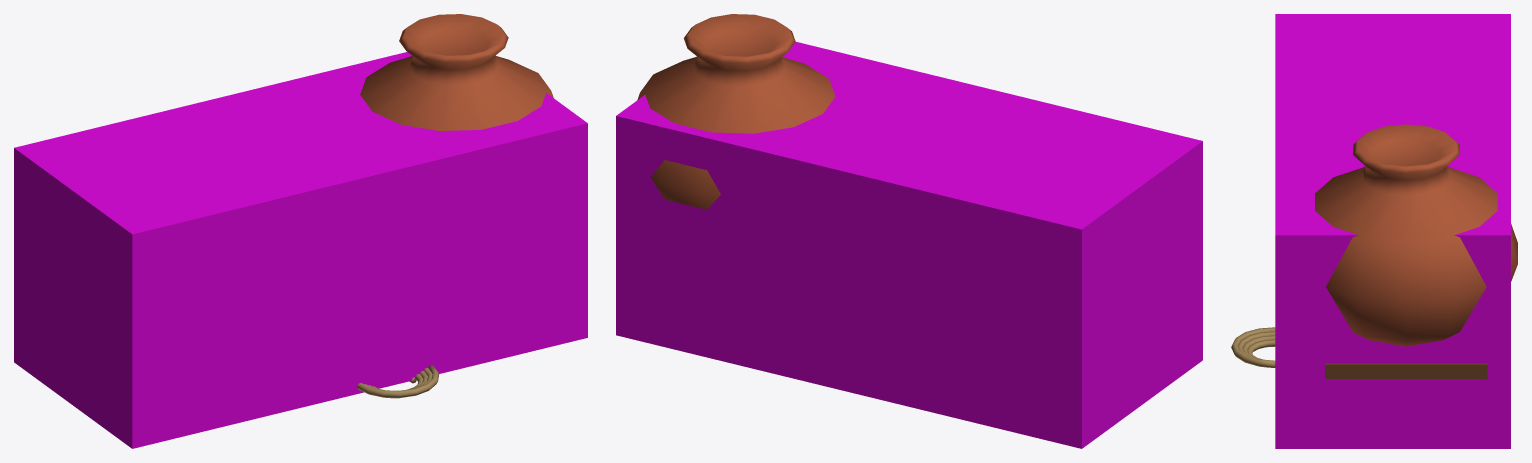
The model's file is PRP_Water_Vessels_A.glb.
3 renders of one model, left to right at view 1: azimuth 30°, elevation 25°; view 2: azimuth 150°, elevation 25°; view 3: azimuth 270°, elevation 25°, orthographic. The views are drawn at different scales.
Visible parts, largest first — view 1: COL_Group, PRP_Water_Vessels_A_Mesh; view 2: COL_Group, PRP_Water_Vessels_A_Mesh; view 3: COL_Group, PRP_Water_Vessels_A_Mesh.
Part boxes in pixels (box(x1,y1,x2,y2)): COL_Group: box(14, 52, 587, 448); PRP_Water_Vessels_A_Mesh: box(357, 14, 553, 398); COL_Group: box(616, 42, 1202, 448); PRP_Water_Vessels_A_Mesh: box(637, 14, 835, 209); COL_Group: box(1275, 14, 1510, 448); PRP_Water_Vessels_A_Mesh: box(1231, 124, 1517, 378).
Size of the model in its own units: 2.14 by 1.15 by 1.1.
